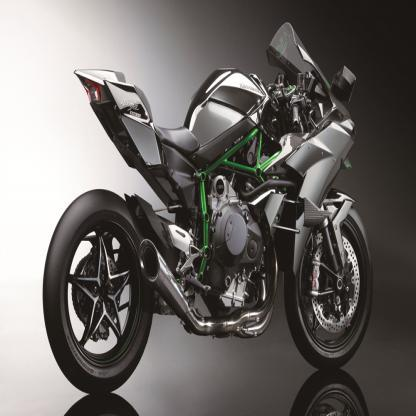Motorcycle: (42, 15, 378, 392)
